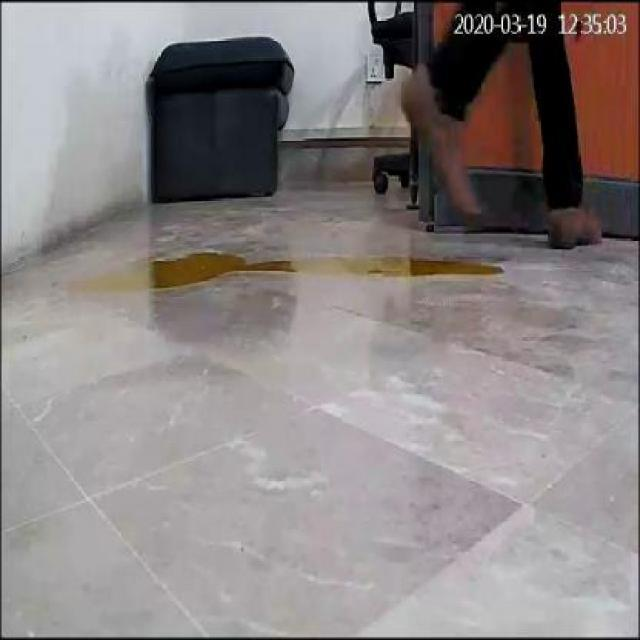spill: (84, 250, 507, 295)
